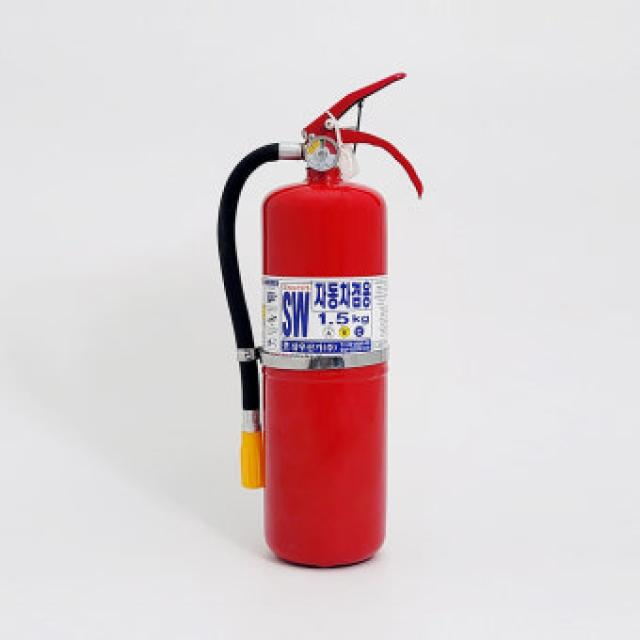pressure gauge: (304, 136, 338, 171)
